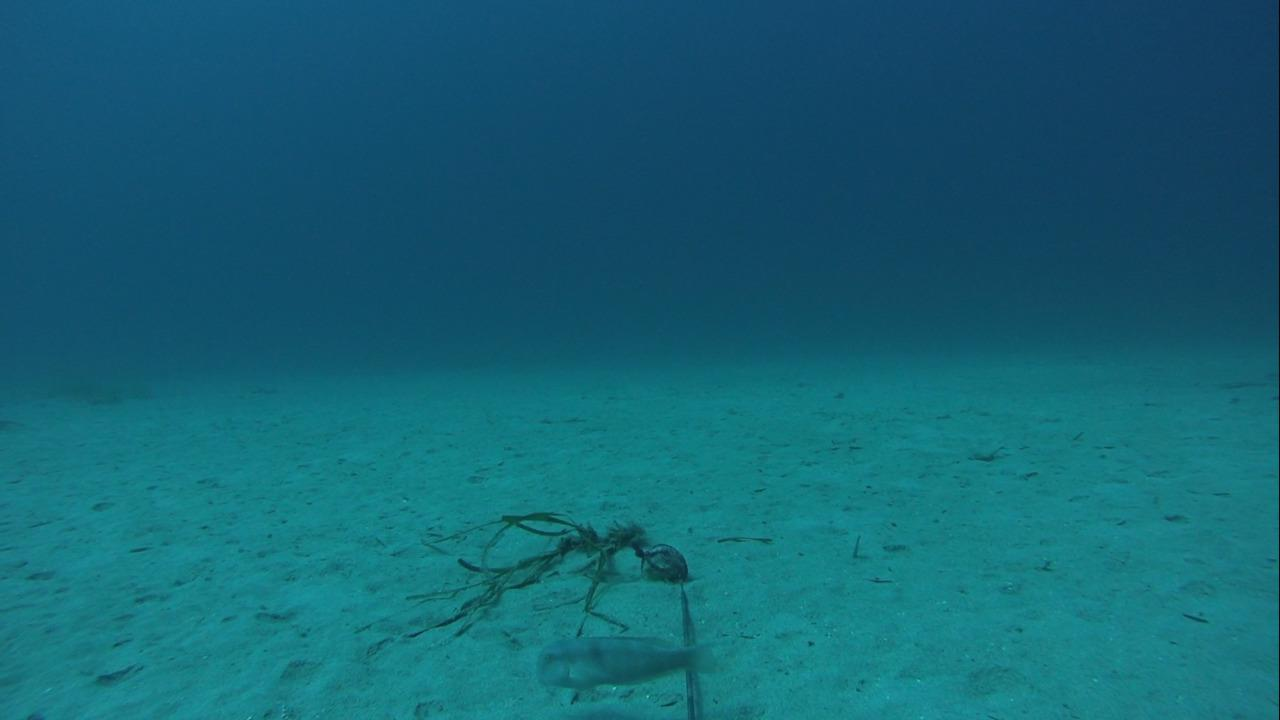raor: (532, 630, 713, 694)
